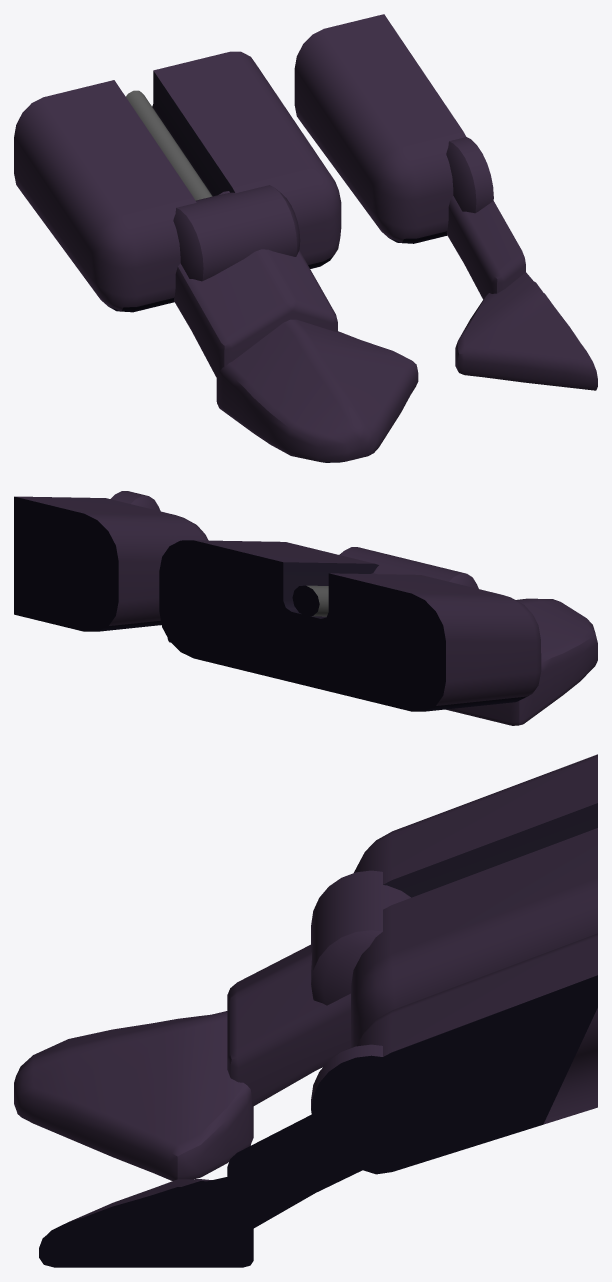
Rendered from ice_globe_bl_wreck.glb.
The picture shows the model from 3 angles, top to bottom: view 1: azimuth 30°, elevation 25°; view 2: azimuth 150°, elevation 25°; view 3: azimuth 270°, elevation 25°; orthographic projection. The views are drawn at different scales.
Parts seen in each view (by area): view 1: thigh.001, thigh_r.001, foot.001, shin.001, foot_r.001, knee.001, shin_r.001, knee_r.001, thigh_rod.001; view 2: thigh.001, thigh_r.001, foot.001, knee.001, thigh_rod.001, knee_r.001; view 3: thigh.001, thigh_r.001, foot.001, foot_r.001, shin.001, knee_r.001, shin_r.001, knee.001.
Boxes of the visible parts, bbox=[...] form: thigh.001: bbox=[14, 51, 341, 312]; thigh_r.001: bbox=[294, 14, 466, 243]; foot.001: bbox=[216, 319, 418, 462]; shin.001: bbox=[174, 191, 337, 379]; foot_r.001: bbox=[455, 272, 597, 390]; knee.001: bbox=[173, 185, 300, 281]; shin_r.001: bbox=[446, 196, 525, 299]; knee_r.001: bbox=[446, 137, 493, 213]; thigh_rod.001: bbox=[126, 90, 212, 200]; thigh.001: bbox=[159, 540, 541, 711]; thigh_r.001: bbox=[14, 496, 208, 631]; foot.001: bbox=[446, 598, 597, 725]; knee.001: bbox=[339, 547, 478, 588]; thigh_rod.001: bbox=[292, 585, 328, 616]; knee_r.001: bbox=[110, 491, 160, 511]; thigh.001: bbox=[351, 754, 597, 1047]; thigh_r.001: bbox=[351, 933, 597, 1174]; foot.001: bbox=[14, 1011, 253, 1180]; foot_r.001: bbox=[39, 1176, 253, 1267]; shin.001: bbox=[227, 944, 350, 1106]; knee_r.001: bbox=[311, 1044, 431, 1164]; shin_r.001: bbox=[227, 1072, 403, 1239]; knee.001: bbox=[311, 870, 410, 1005].
Bounding box in the file's own units: 19 × 10.97 × 19.85.
